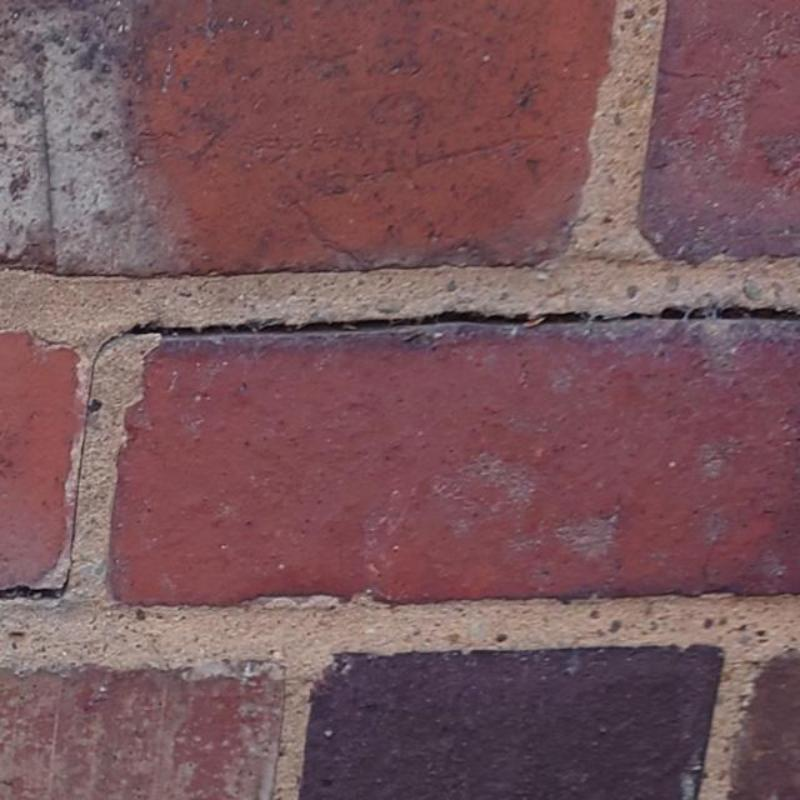pothole: (130, 306, 800, 336), (61, 329, 131, 590), (1, 588, 64, 598)
